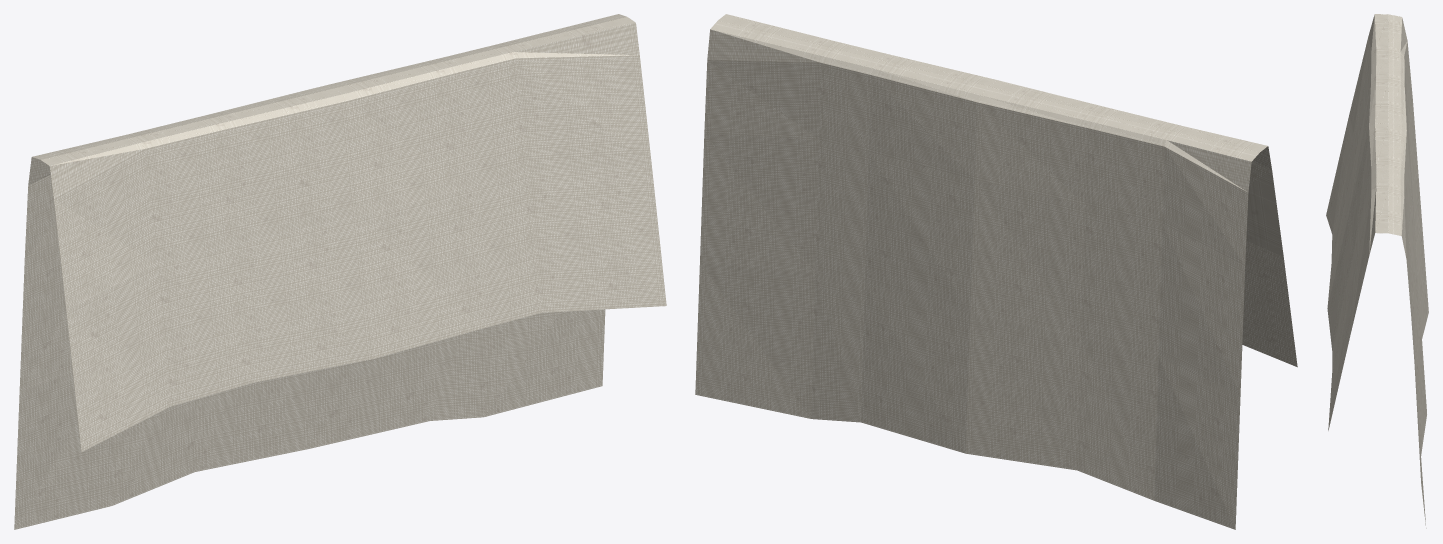
File: SM_MourningCloth_Draped_A.glb
3 views of the same model, side by side, from view 1: azimuth 30°, elevation 25°; view 2: azimuth 150°, elevation 25°; view 3: azimuth 270°, elevation 25° (orthographic). The views are drawn at different scales.
Visible parts, largest first — view 1: SM_MourningCloth_Draped_A; view 2: SM_MourningCloth_Draped_A; view 3: SM_MourningCloth_Draped_A.
Part boxes in pixels (left/top/right/bottom): SM_MourningCloth_Draped_A: left=14, top=14, right=666, bottom=529; SM_MourningCloth_Draped_A: left=695, top=14, right=1297, bottom=529; SM_MourningCloth_Draped_A: left=1326, top=14, right=1428, bottom=528.
Size of the model in its own units: 0.6 by 0.381 by 0.119.
1 material, 1 textured.
